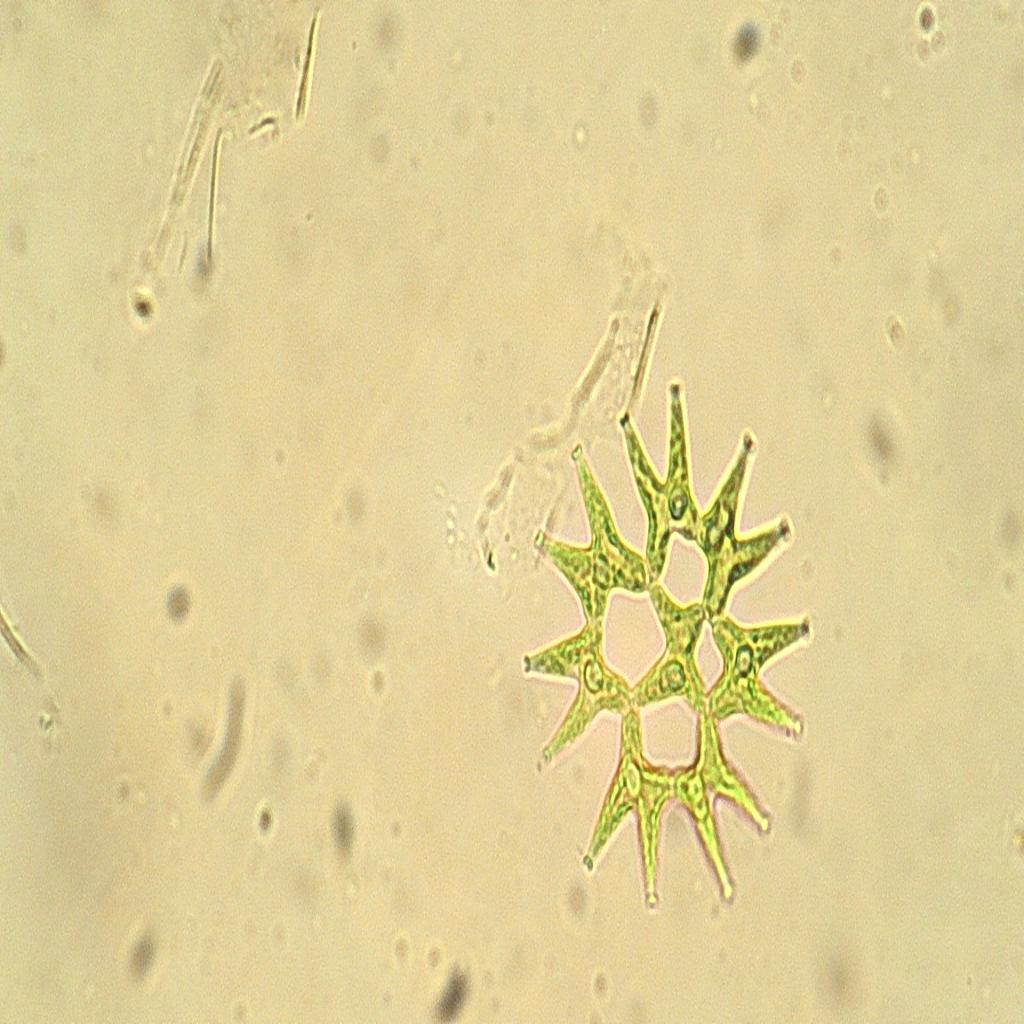Pediastrum_75T: (510, 370, 825, 924)
